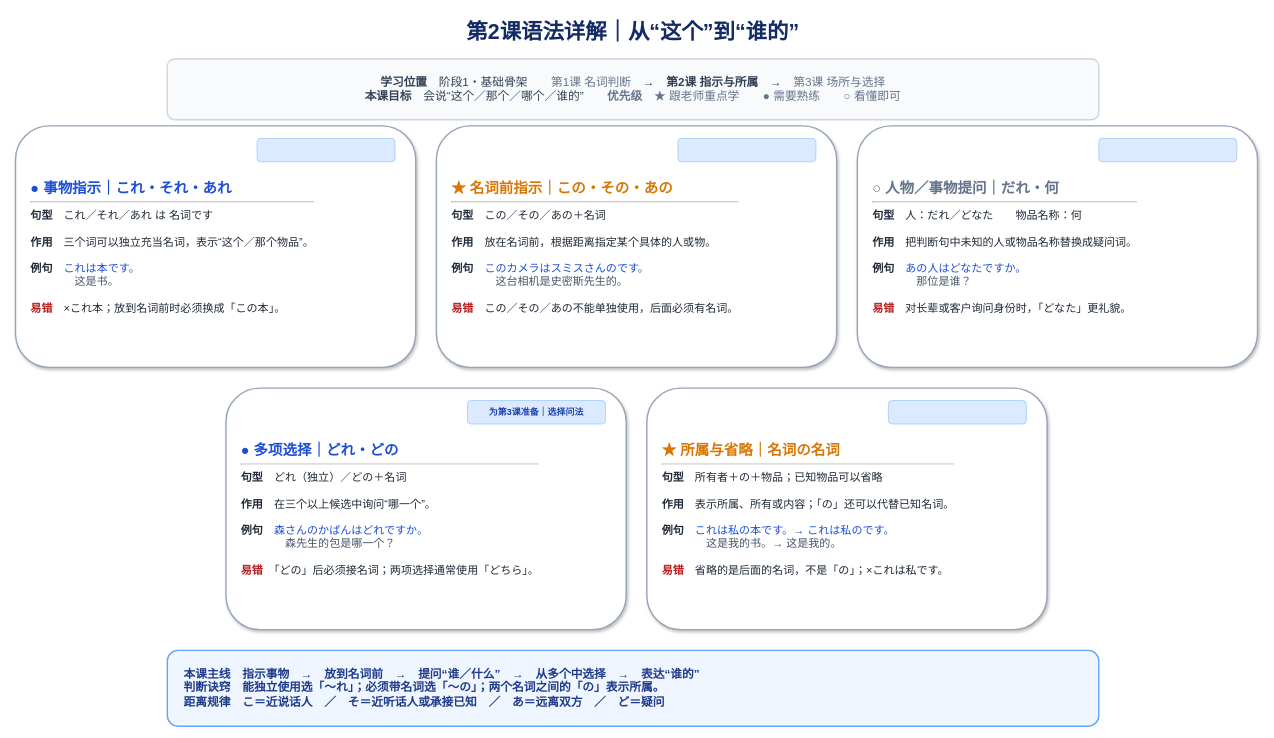
This 1274x738 diagram has some shape labels left out. The centre of each missing label's shape, as x and y in pixels:
"为第25课准备｜修饰名词" goes at point 746,150.
"后续第25／45课｜「の」扩展" goes at point 957,412.
"承接第1课｜名词判断句" goes at point 325,150.
"承接第1课｜疑问句" goes at point 1167,150.
